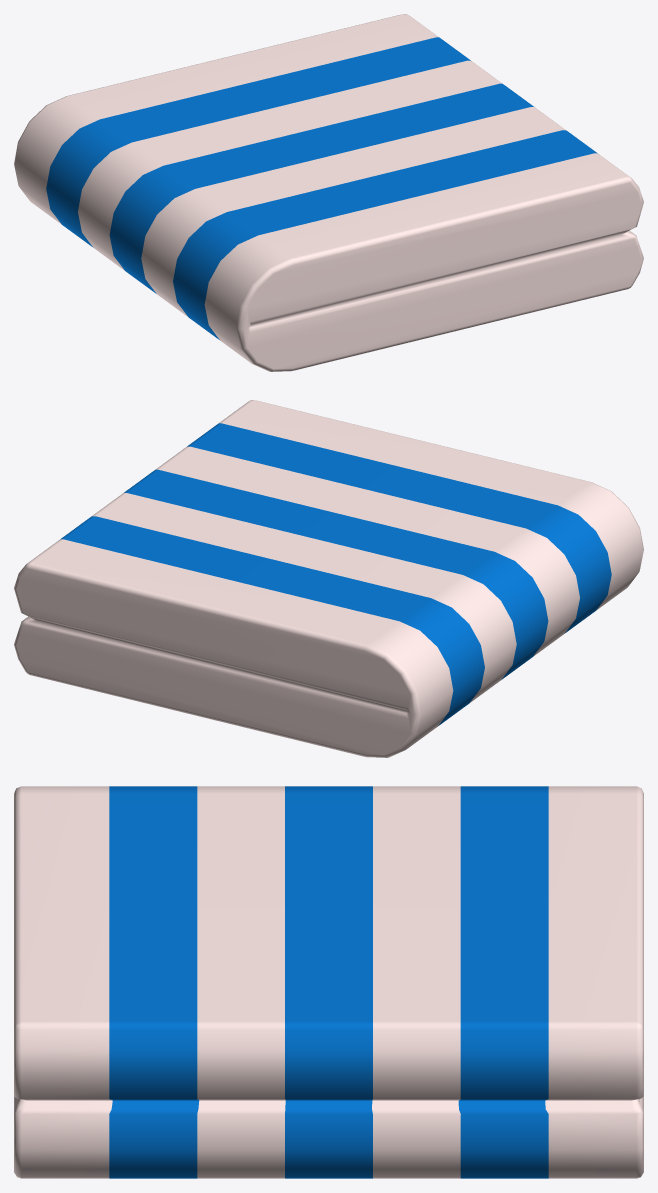
File: Public_19_Fabric_1.glb
3 renders of one model, top to bottom at view 1: azimuth 30°, elevation 25°; view 2: azimuth 150°, elevation 25°; view 3: azimuth 270°, elevation 25°, orthographic. The views are drawn at different scales.
Visible parts, largest first — view 1: Public_19_Fabric_1; view 2: Public_19_Fabric_1; view 3: Public_19_Fabric_1.
Part boxes in pixels (x1,y1,x2,y2): Public_19_Fabric_1: (14, 14, 643, 371); Public_19_Fabric_1: (14, 400, 643, 757); Public_19_Fabric_1: (14, 786, 643, 1178).
Bounding box in the file's own units: 0.9385 × 0.2481 × 0.9069.
Materials: 1 (1 with a texture image).
